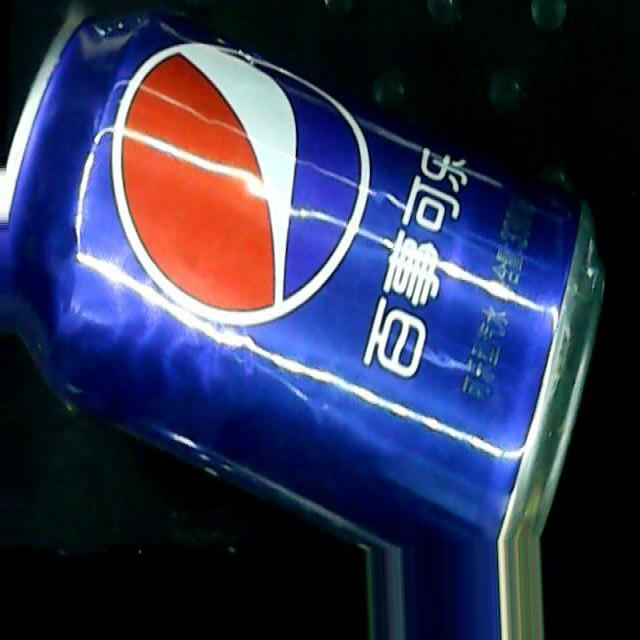-Recyclables - can-: (6, 10, 610, 568)
